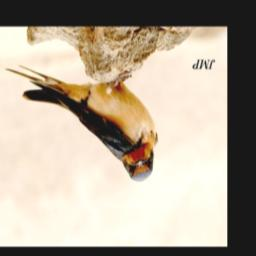Swallow: (5, 57, 159, 183)
